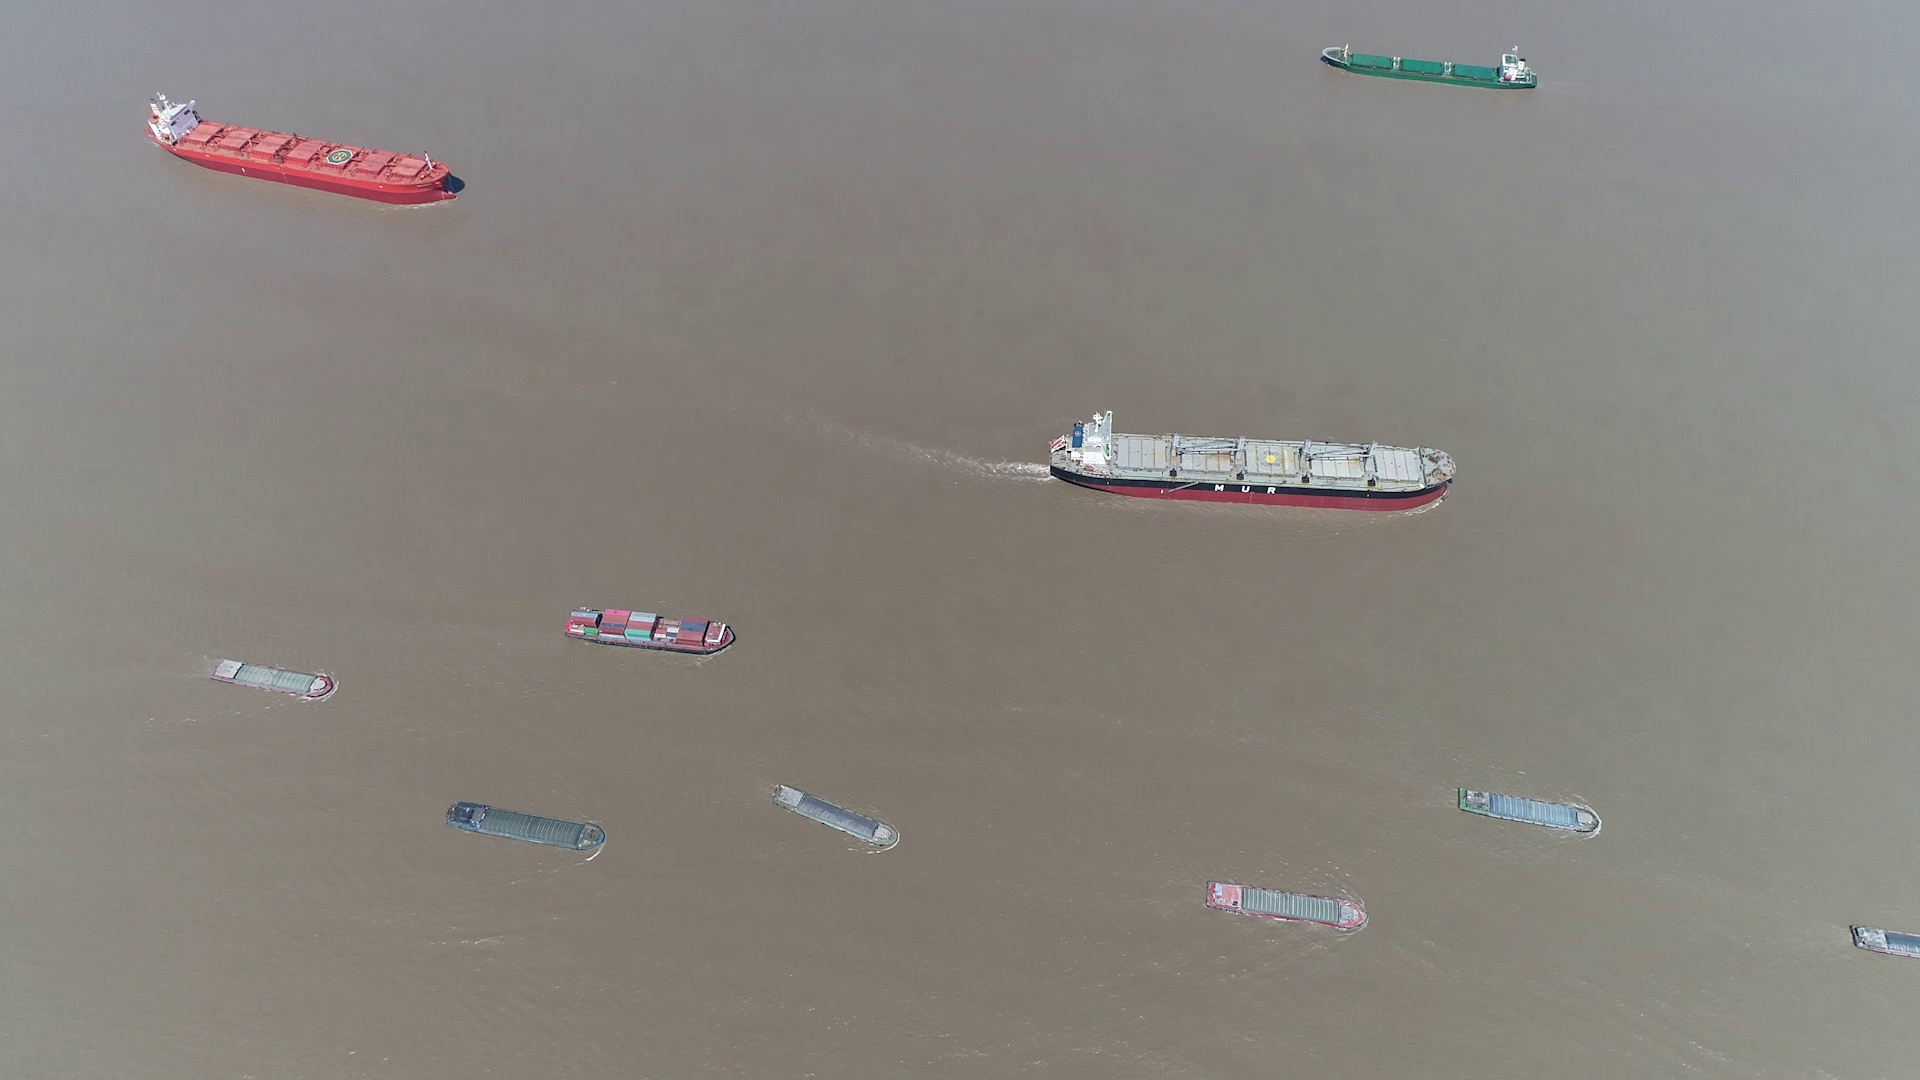ship: (1051, 415, 1449, 510), (146, 96, 458, 206), (1317, 46, 1540, 92), (448, 800, 611, 855), (563, 607, 736, 655), (1205, 881, 1369, 932), (775, 785, 902, 849), (1456, 789, 1604, 837), (211, 658, 336, 700), (1847, 924, 1919, 963)
